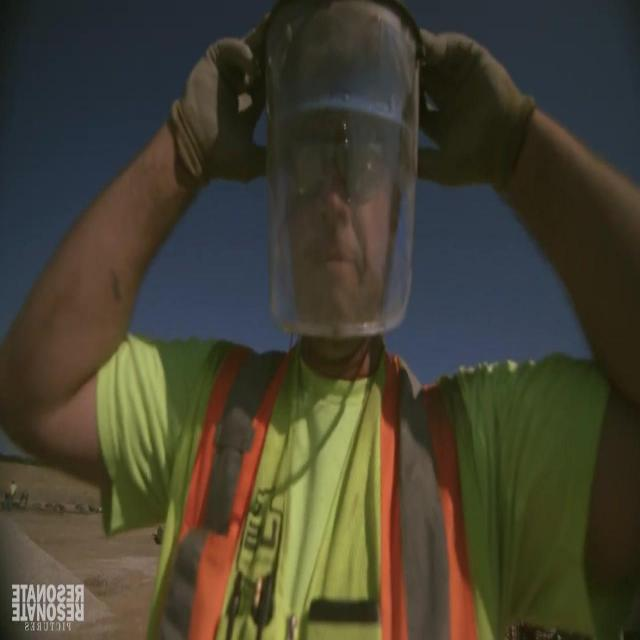Reflective-Jacket: (107, 327, 504, 636)
Safety-Helmet: (220, 0, 452, 182)
